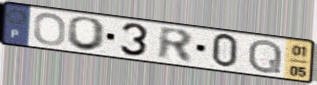0: (210, 33, 242, 72)
3: (117, 22, 153, 59)
O: (65, 15, 109, 53), (33, 11, 69, 47)
Q: (246, 38, 284, 75)
R: (157, 25, 195, 65)
